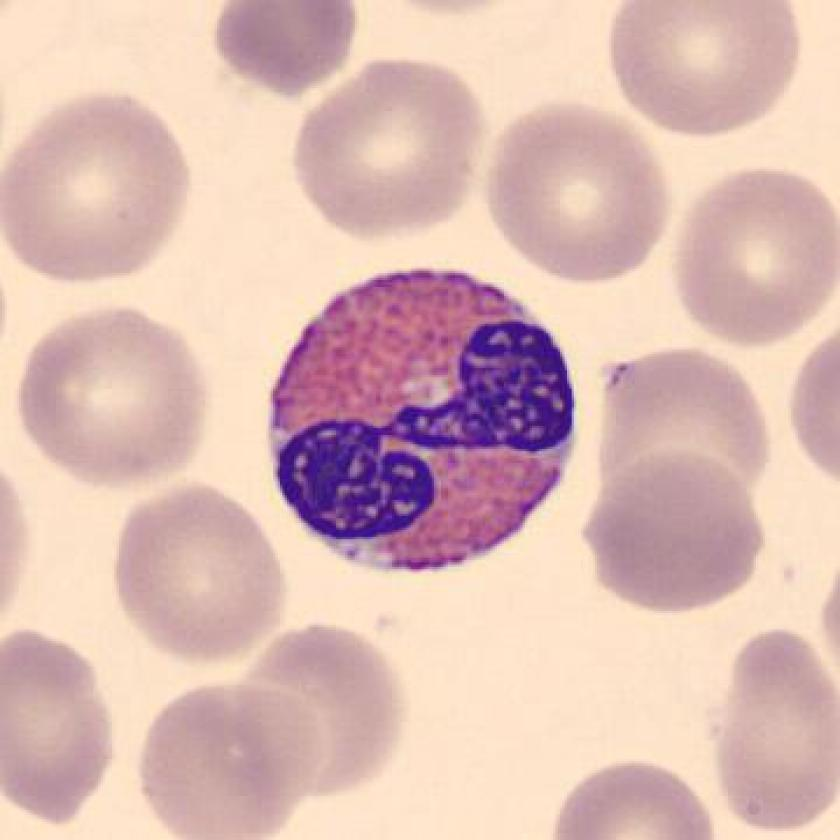eosinophil: (256, 256, 585, 601)
